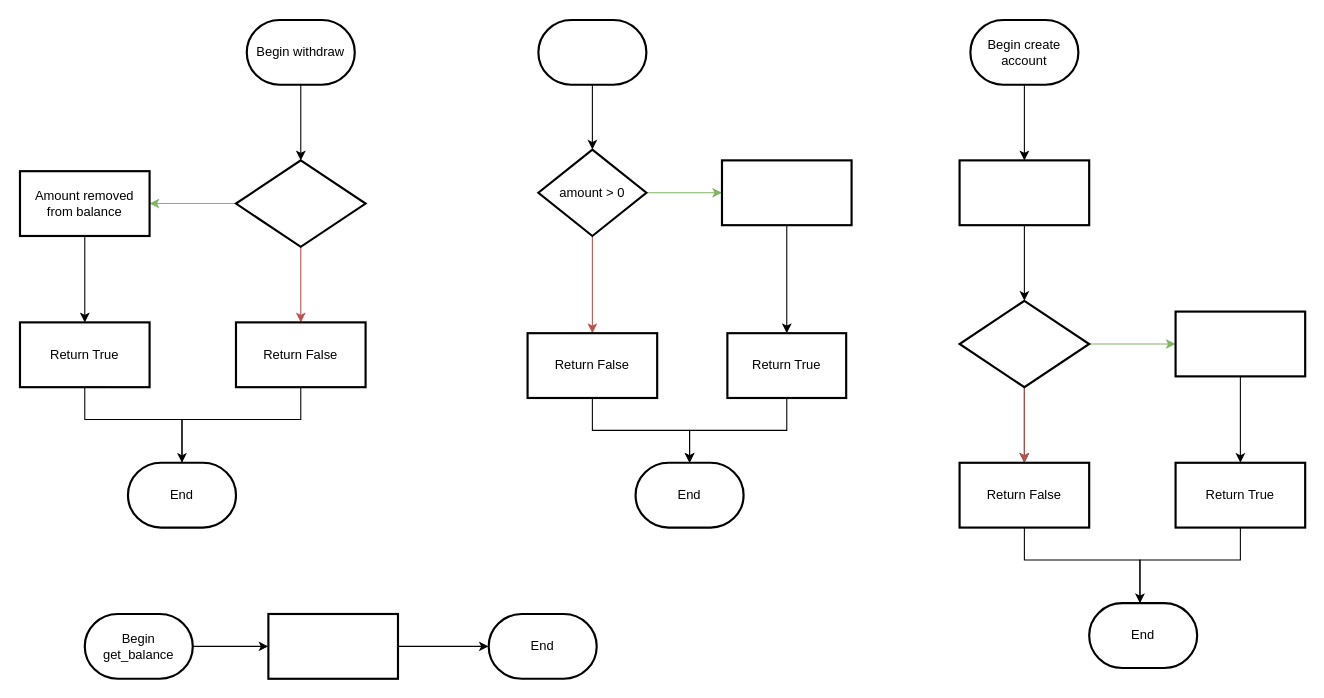
Image size: 1324x698. Some labels were removed from this diagram. Here are the shapes that lost their labels. From the top down, the centre of each, then its label:
At pixel 592 51: "Begin deposit".
At pixel 300 203: "0 < amount <= balance".
At pixel 786 192: "Amount added to balance".
At pixel 1024 192: "Create dictionary of accounts".
At pixel 1024 343: "Account not in accounts".
At pixel 1240 343: "Add acount to dictionary".
At pixel 333 645: "return balance".
